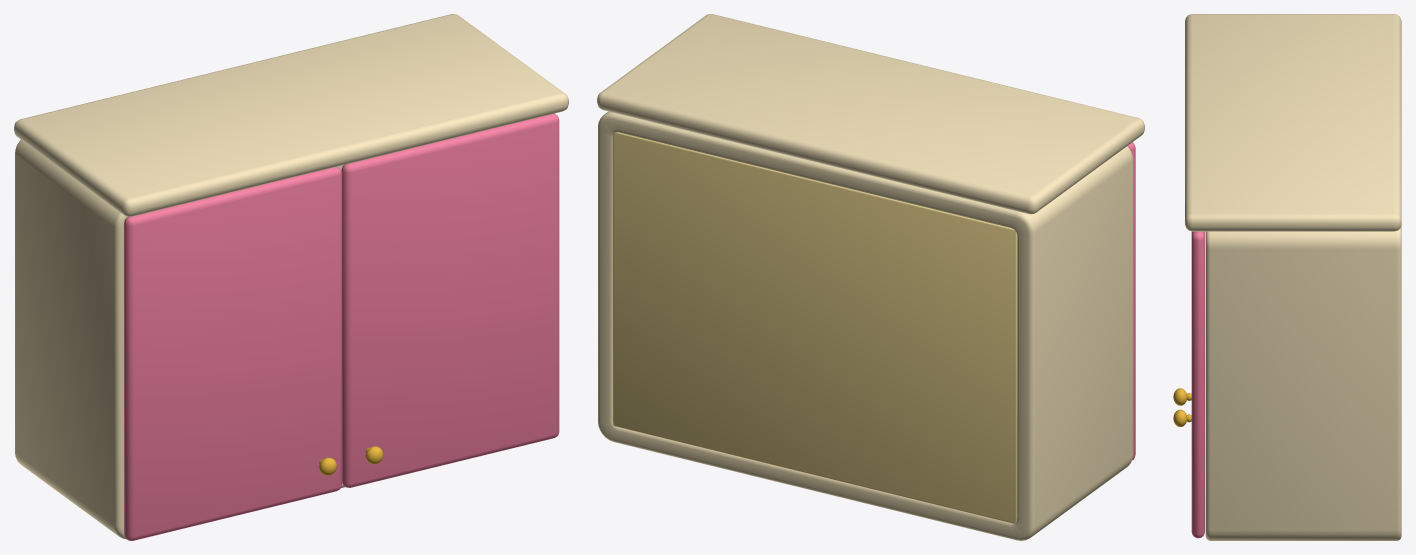
The model's file is armario_parede_2portas_creme_rosa.glb.
3 renders of one model, left to right at view 1: azimuth 30°, elevation 25°; view 2: azimuth 150°, elevation 25°; view 3: azimuth 270°, elevation 25°, orthographic. The views are drawn at different scales.
Visible parts, largest first — view 1: armario_parede_2portas_creme_rosa, porta_2, porta_1; view 2: armario_parede_2portas_creme_rosa, porta_1; view 3: armario_parede_2portas_creme_rosa, porta_2.
Boxes of the visible parts, box(x1,y1,x2,y2) form: armario_parede_2portas_creme_rosa: box(14, 14, 568, 539); porta_2: box(341, 113, 559, 487); porta_1: box(124, 166, 341, 540); armario_parede_2portas_creme_rosa: box(597, 14, 1144, 540); porta_1: box(1127, 142, 1135, 460); armario_parede_2portas_creme_rosa: box(1185, 14, 1401, 540); porta_2: box(1173, 231, 1204, 538).
Size of the model in its own units: 0.798 by 0.6 by 0.375.
1 material, 1 textured.
